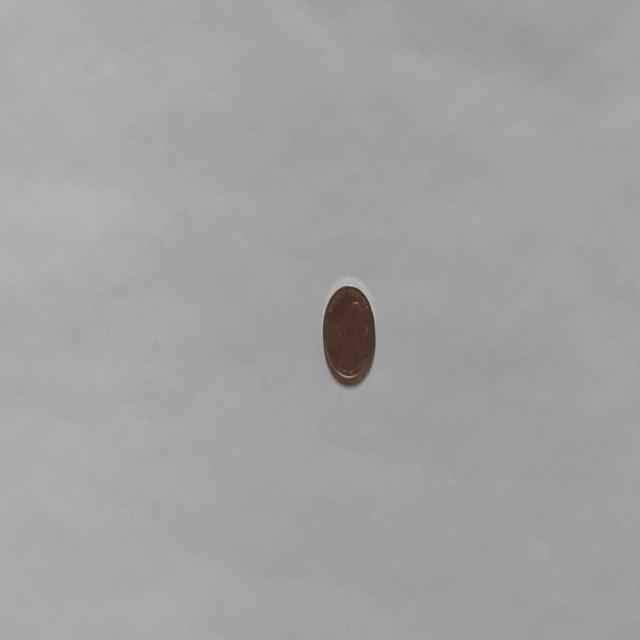seribu rupiah koin: (321, 278, 376, 386)
